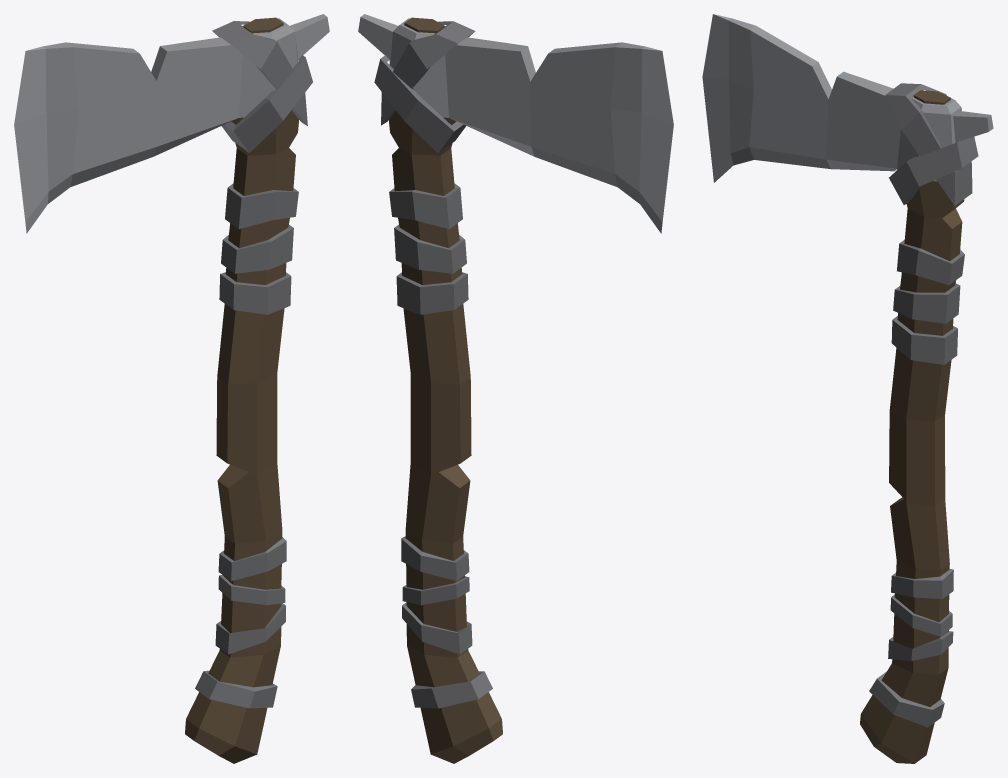
The model's file is HandAxe.glb.
3 views of the same model, side by side, from view 1: azimuth 30°, elevation 25°; view 2: azimuth 150°, elevation 25°; view 3: azimuth 330°, elevation 25° (orthographic). The views are drawn at different scales.
Parts seen in each view (by area): view 1: HandAxe; view 2: HandAxe; view 3: HandAxe.
Boxes of the visible parts, x1,y1,x2,y2 form: HandAxe: (14,14,329,763); HandAxe: (358,14,673,763); HandAxe: (702,14,993,763).
Bounding box in the file's own units: 0.3152 × 0.7303 × 0.0597.
1 material, 1 textured.
